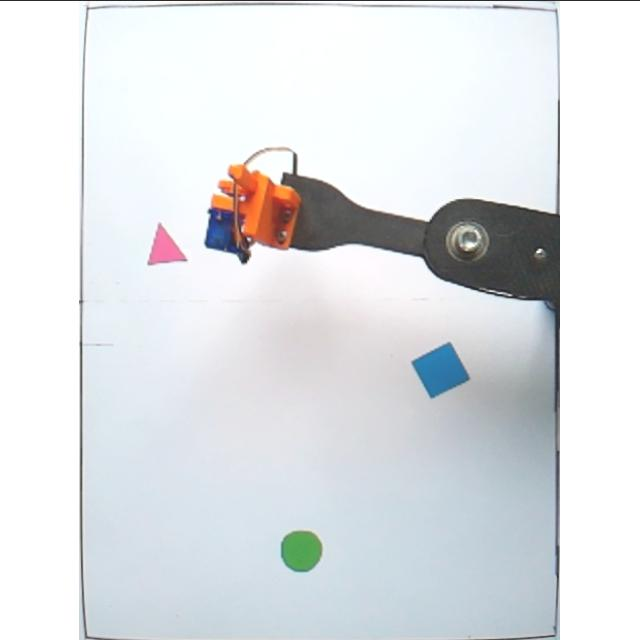blueSquare: (410, 340, 472, 400)
greenCircle: (280, 528, 328, 574)
pinkTriangle: (144, 220, 192, 266)
